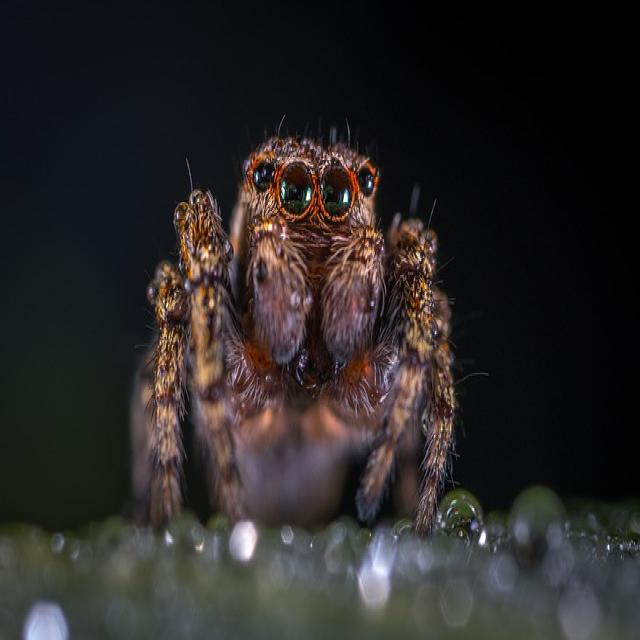spyder: (131, 134, 455, 533)
